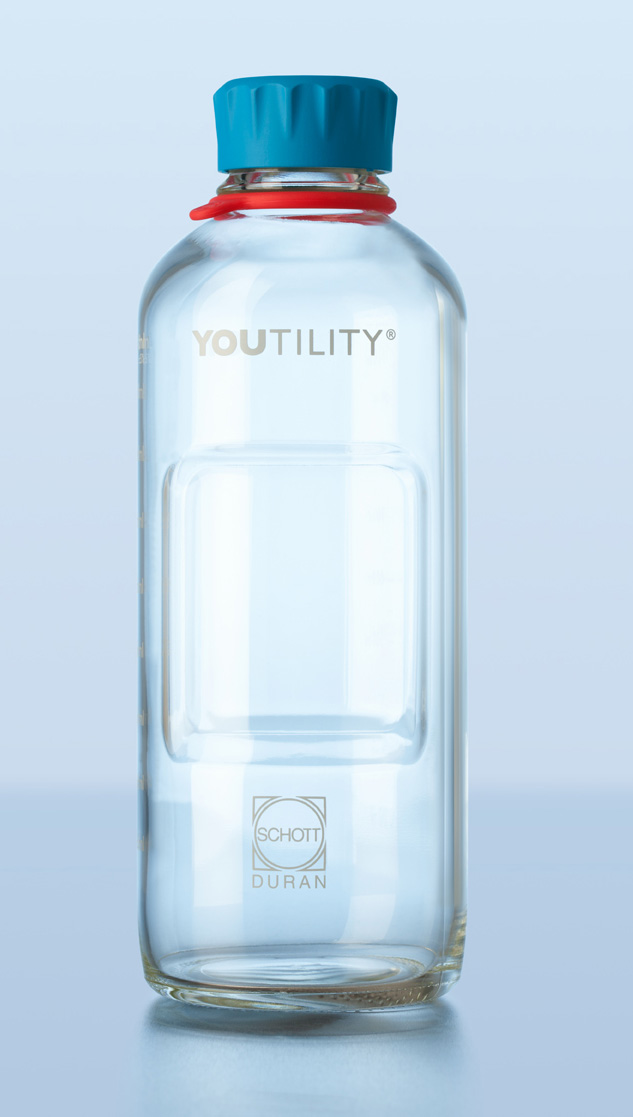glass_bottle: (116, 55, 484, 1049)
